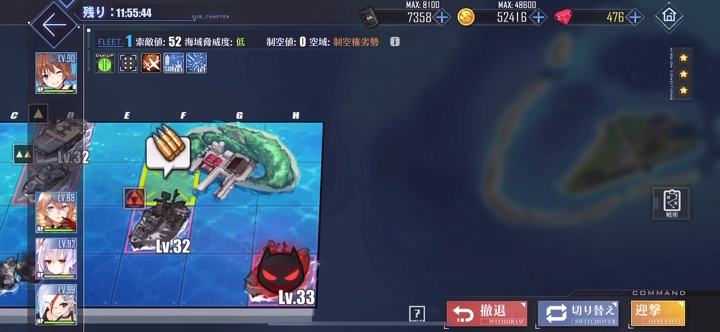boss: (243, 237, 323, 299)
lv3: (118, 184, 197, 256)
